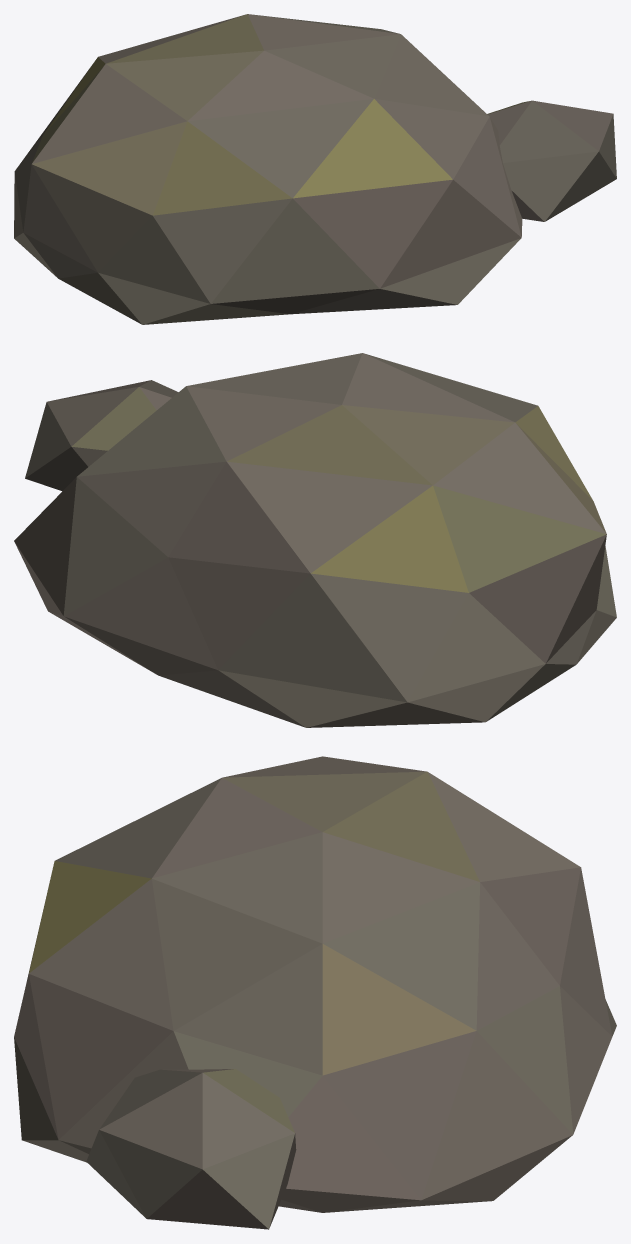
Rendered from env_tor_a.glb.
3 renders of one model, top to bottom at view 1: azimuth 30°, elevation 25°; view 2: azimuth 150°, elevation 25°; view 3: azimuth 270°, elevation 25°, orthographic. The views are drawn at different scales.
Parts seen in each view (by area): view 1: env_tor_a; view 2: env_tor_a; view 3: env_tor_a.
Part boxes in pixels (<box>): env_tor_a: <box>14,14,616,324</box>; env_tor_a: <box>14,353,616,727</box>; env_tor_a: <box>14,756,616,1229</box>.
Bounding box in the file's own units: 3.03 × 1.13 × 2.21.
